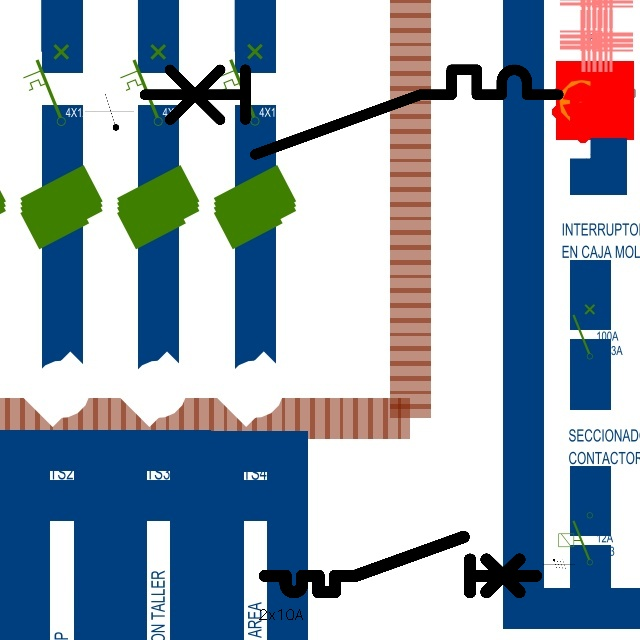interruptor_termomagnetico: (134, 59, 569, 165), (258, 530, 542, 599)
